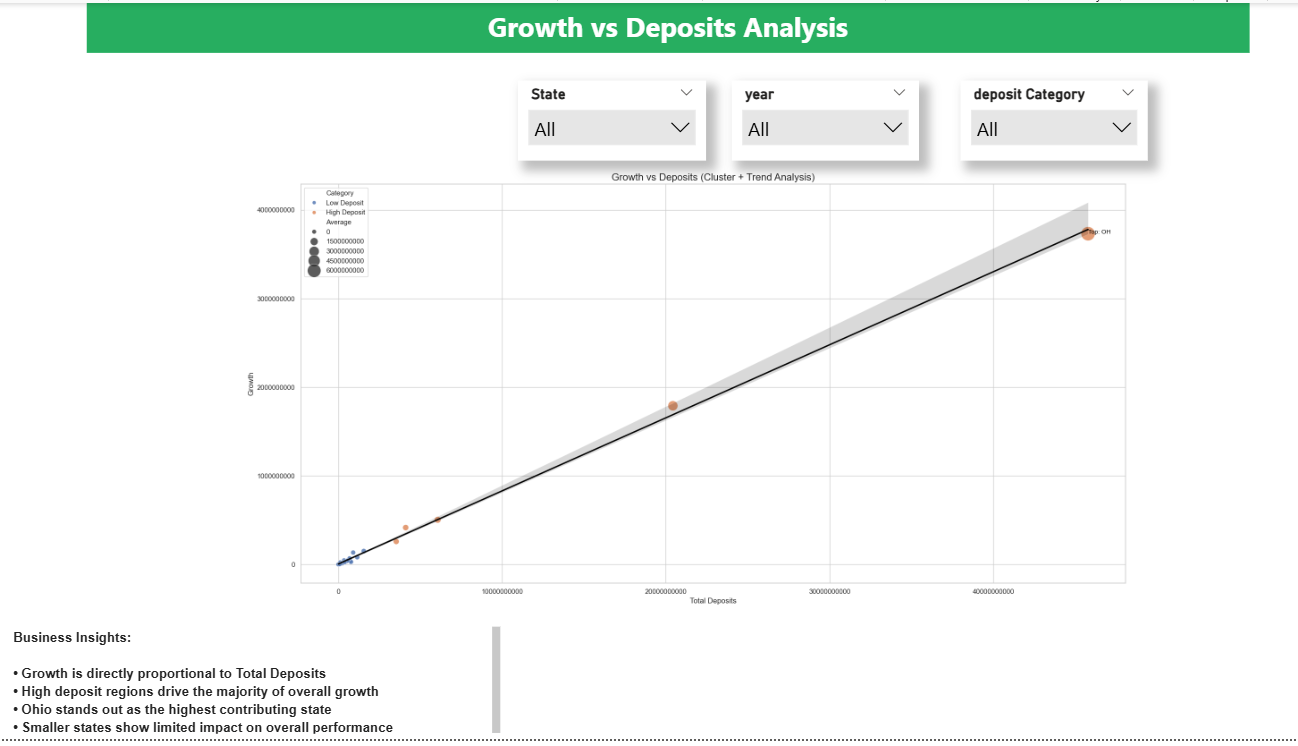

This screenshot's page, from the dashboard's own definition file:
{"tool":"powerbi","page":{"name":"Page 3","canvas":[1280,720],"ordinal":2},"visuals":[{"type":"pythonVisual","fields":{"Values":["Cleaned_Chase.State","Sum(Cleaned_Chase.Growth)","Sum(Cleaned_Chase.Average)","Sum(Cleaned_Chase.Total Deposits)"]},"box":[0,154.4,1357.5,447],"z":0},{"type":"slicer","fields":{"Values":["Cleaned_Chase.State"]},"box":[513.5,76.3,183.9,78.2],"z":1000},{"type":"slicer","fields":{"Values":["Cleaned_Chase.year"]},"box":[722.7,75.8,183,78.3],"z":2000},{"type":"slicer","fields":{"Values":["Cleaned_Chase.deposit Category"]},"box":[946.5,75.8,183,78.3],"z":3000},{"type":"textbox","box":[91.7,0,1137.2,48.9],"z":4000},{"type":"textbox","box":[14.7,605.3,486.7,114.9],"z":5000}]}

Visuals, with their boxes in screenshot pixels (x1, y1, x2, y2), scaled from the page's 1280x720 canvas onto the 1298x746 screenshot:
pythonVisual - Cleaned_Chase.State x Sum(Cleaned_Chase.Growth): l=0, t=160, r=1297, b=623
slicer - Cleaned_Chase.State: l=521, t=79, r=707, b=160
slicer - Cleaned_Chase.year: l=733, t=79, r=918, b=160
slicer - Cleaned_Chase.deposit Category: l=960, t=79, r=1145, b=160
textbox: l=93, t=0, r=1246, b=51
textbox: l=15, t=627, r=508, b=745
